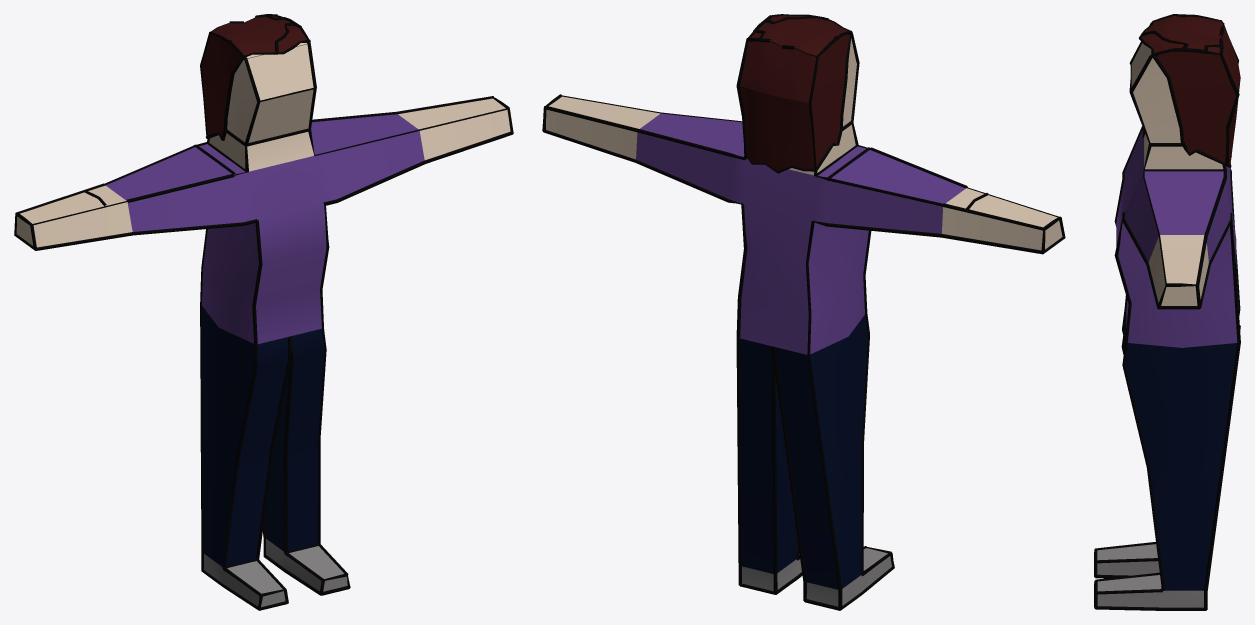
Rendered from Victim_Take1.fbx.
The picture shows the model from 3 angles, left to right: view 1: azimuth 30°, elevation 25°; view 2: azimuth 150°, elevation 25°; view 3: azimuth 270°, elevation 25°; orthographic projection. The views are drawn at different scales.
Visible parts, largest first — view 1: Body, Main, Hair; view 2: Body, Main, Hair; view 3: Body, Main, Hair.
Part boxes in pixels (x1,y1,x2,y2): Body: [16, 43, 510, 607]; Main: [14, 14, 513, 610]; Hair: [202, 16, 306, 136]; Body: [546, 38, 1062, 606]; Main: [542, 14, 1065, 610]; Hair: [740, 15, 849, 170]; Body: [1097, 43, 1238, 607]; Main: [1094, 14, 1240, 610]; Hair: [1141, 16, 1240, 165].
Size of the model in its own units: 7.82 by 8.39 by 2.01.
